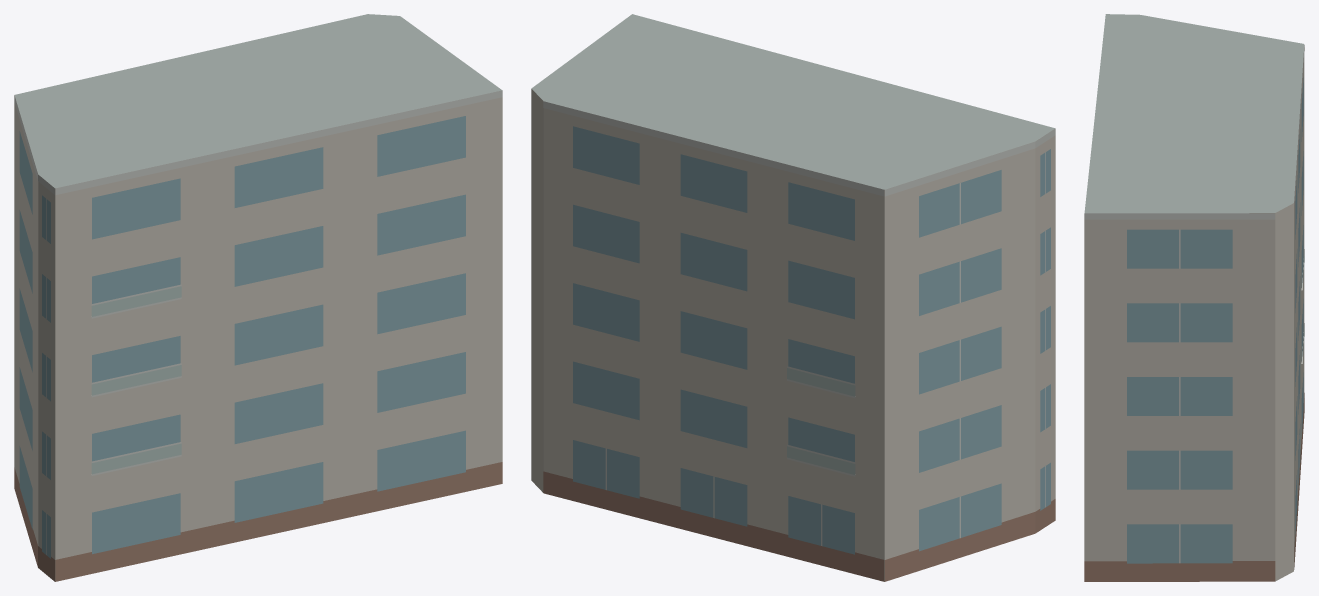
Rendered from survey-upis-32876707.glb.
The picture shows the model from 3 angles, left to right: view 1: azimuth 30°, elevation 25°; view 2: azimuth 150°, elevation 25°; view 3: azimuth 270°, elevation 25°; orthographic projection. The views are drawn at different scales.
Parts seen in each view (by area): view 1: survey-upis-32876707.tmp; view 2: survey-upis-32876707.tmp; view 3: survey-upis-32876707.tmp.
Part boxes in pixels (x1=…): survey-upis-32876707.tmp: x1=14, y1=14, x2=502, y2=581; survey-upis-32876707.tmp: x1=531, y1=14, x2=1055, y2=581; survey-upis-32876707.tmp: x1=1084, y1=14, x2=1304, y2=581.
Bounding box in the file's own units: 16.25 × 14 × 7.59.
